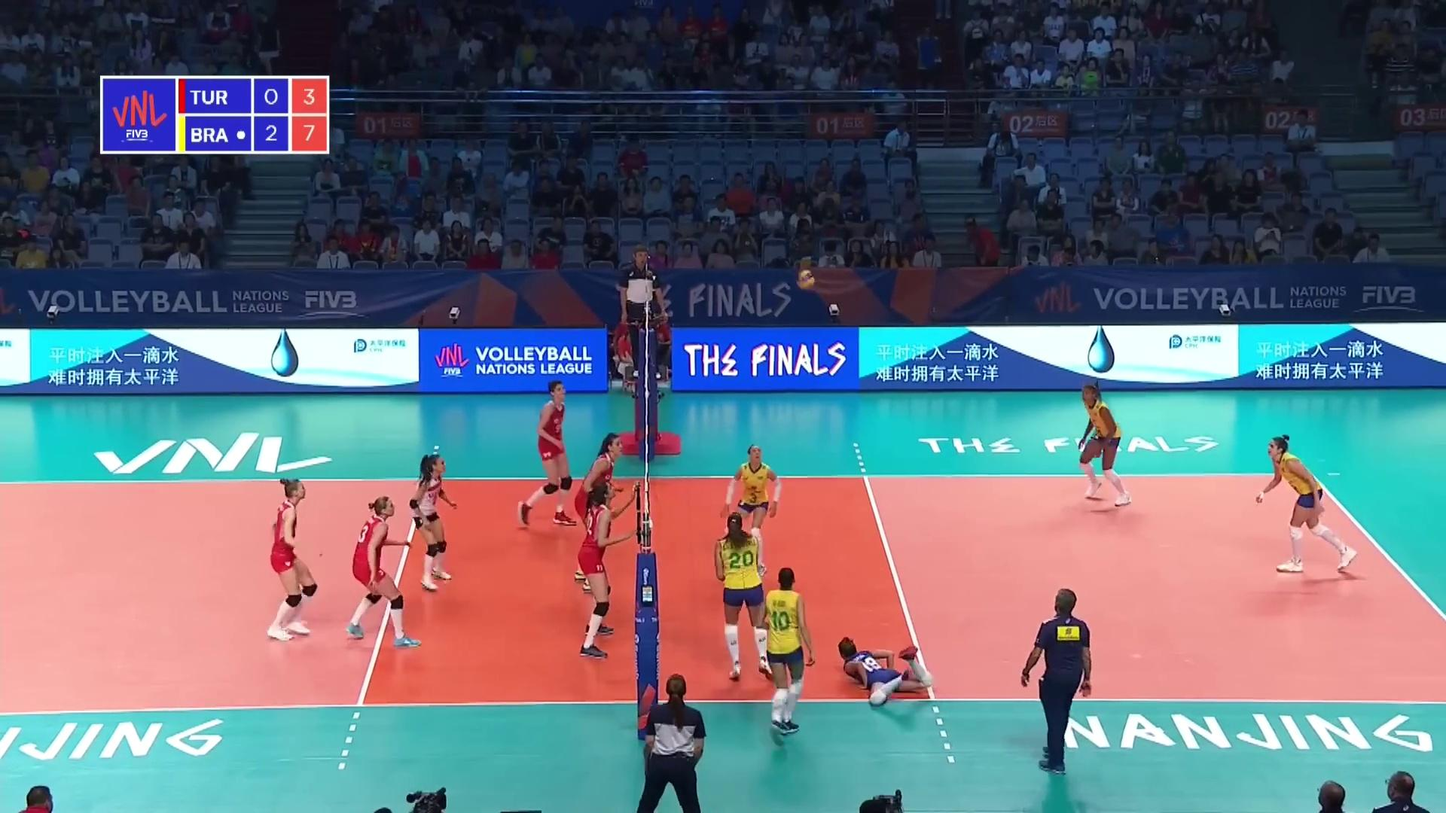player: (1256, 435, 1358, 575), (346, 498, 425, 649), (581, 481, 639, 659), (714, 515, 775, 680), (761, 566, 813, 736), (574, 432, 627, 591), (516, 383, 573, 527), (267, 478, 316, 641), (723, 442, 782, 576), (837, 638, 932, 708), (1078, 384, 1133, 504), (412, 453, 458, 590)
refree: (637, 671, 705, 813), (622, 248, 662, 378)
